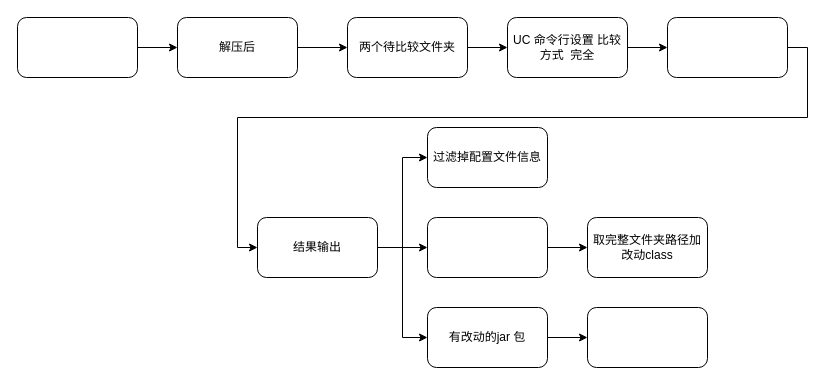
This 833x385 diagram has some shape labels left out. The shapes that lost their labels are listed below. From the top down, each one's centre as x and y in pixels, then its label:
point 77,47: Jenkins 流水线运行
point 727,47: 相等文件与相等文件夹
point 487,247: WEB-INF中改动的class
point 647,337: 取jar包路径加jar包
